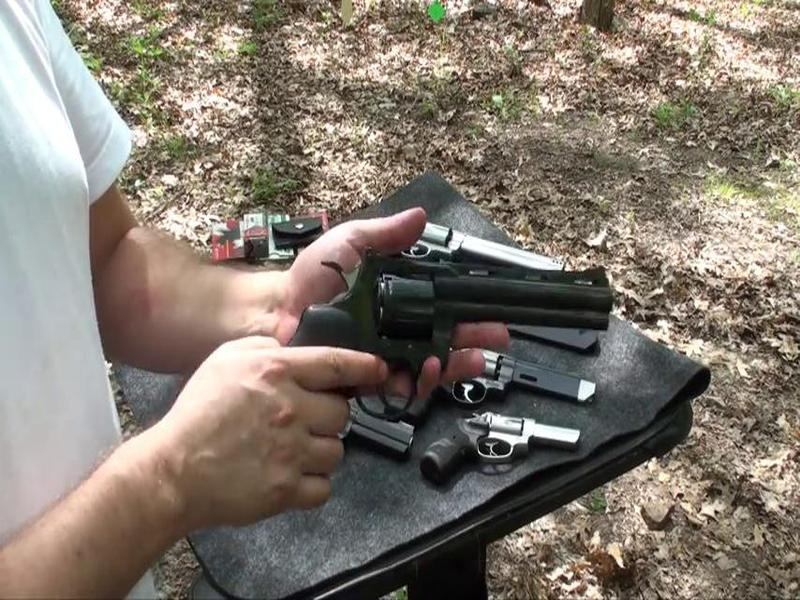Revolver: (267, 239, 624, 451)
